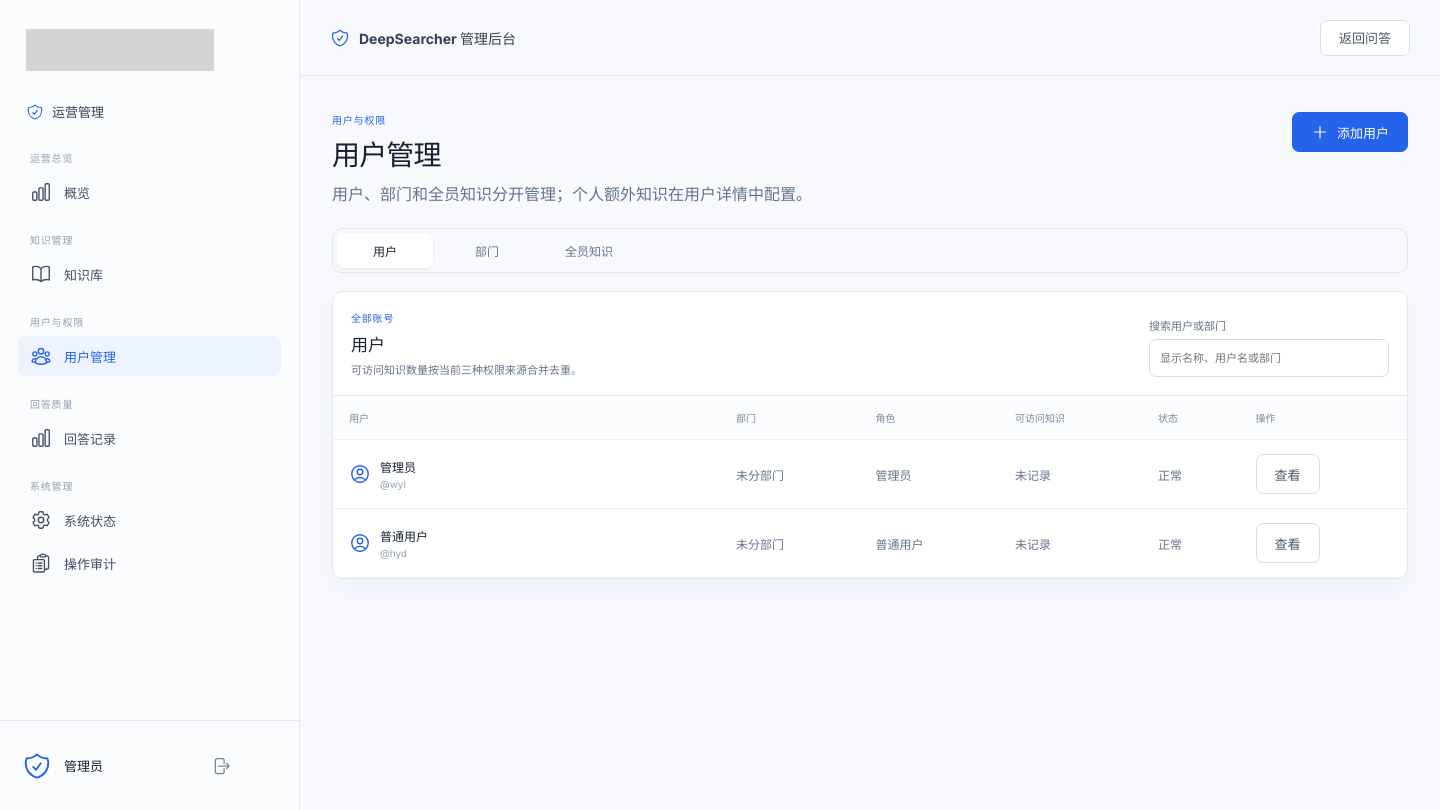
Test: 用户管理非法 tab 规范化为 users，并按当前 tab 加载数据
Expected: the heading "用户管理" is shown, [332,138,441,172]
Click the link "全员知识". click: click(589, 252)
box: [565,244,613,259]
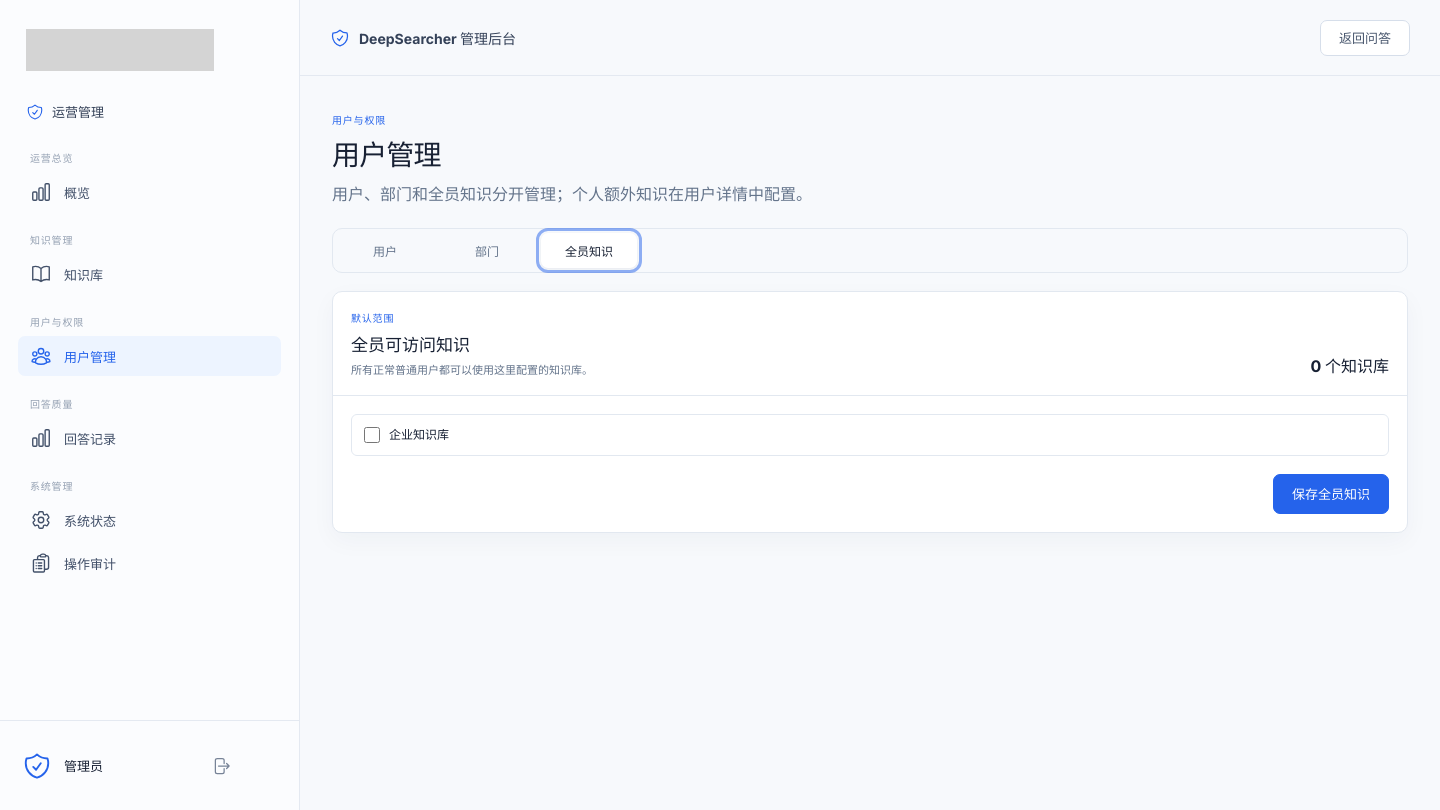
Result: the heading "全员可访问知识" is shown at [351,335,470,355]
